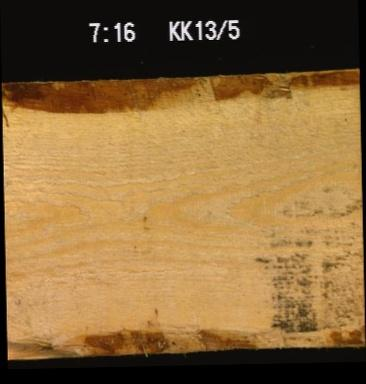wave: (0, 70, 359, 111), (6, 323, 364, 351)
